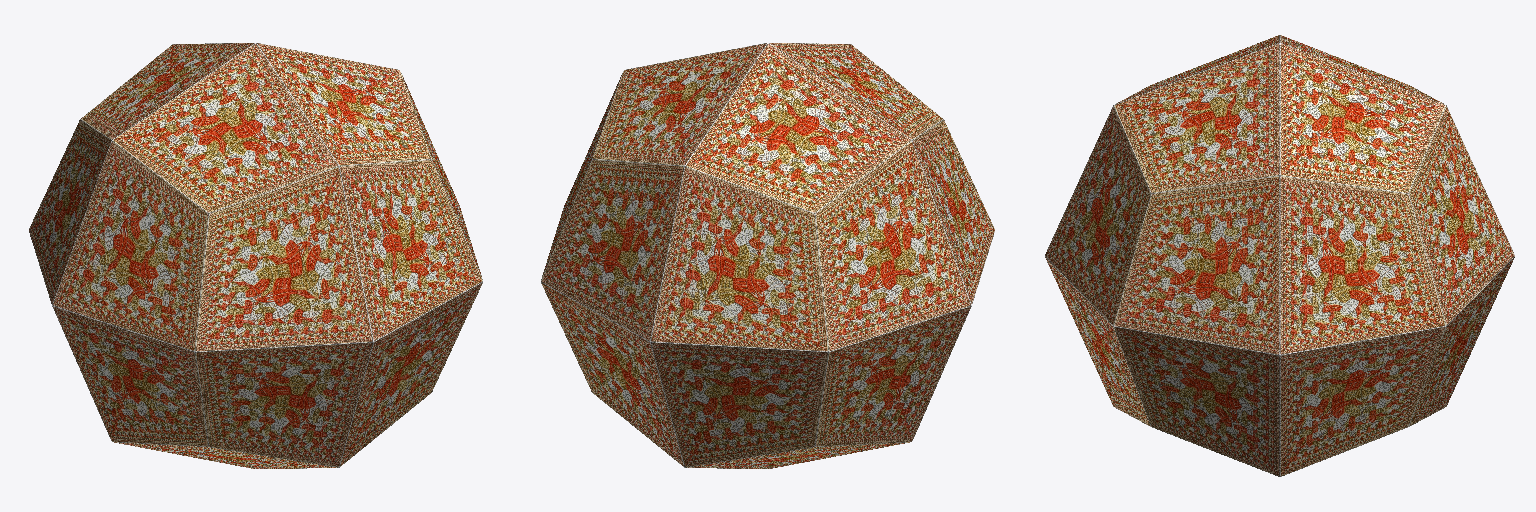
3 views of the same model, side by side, from view 1: azimuth 30°, elevation 25°; view 2: azimuth 150°, elevation 25°; view 3: azimuth 270°, elevation 25° (orthographic).
Bounding box in the file's own units: 2.83 × 2.83 × 2.83.
Materials: 1 (1 with a texture image).